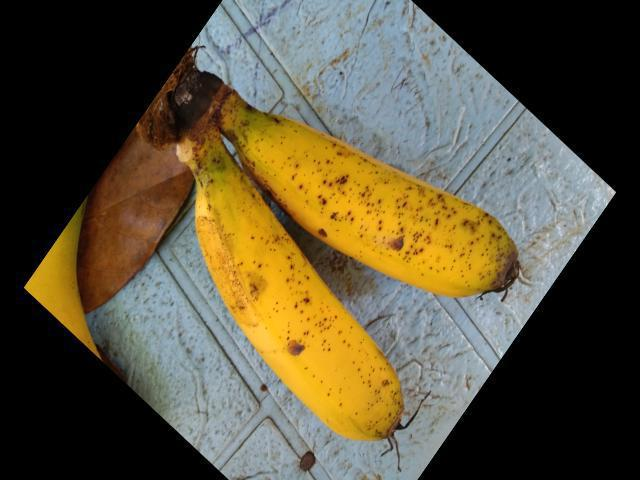ripe: (257, 108, 547, 307), (190, 177, 388, 436)
